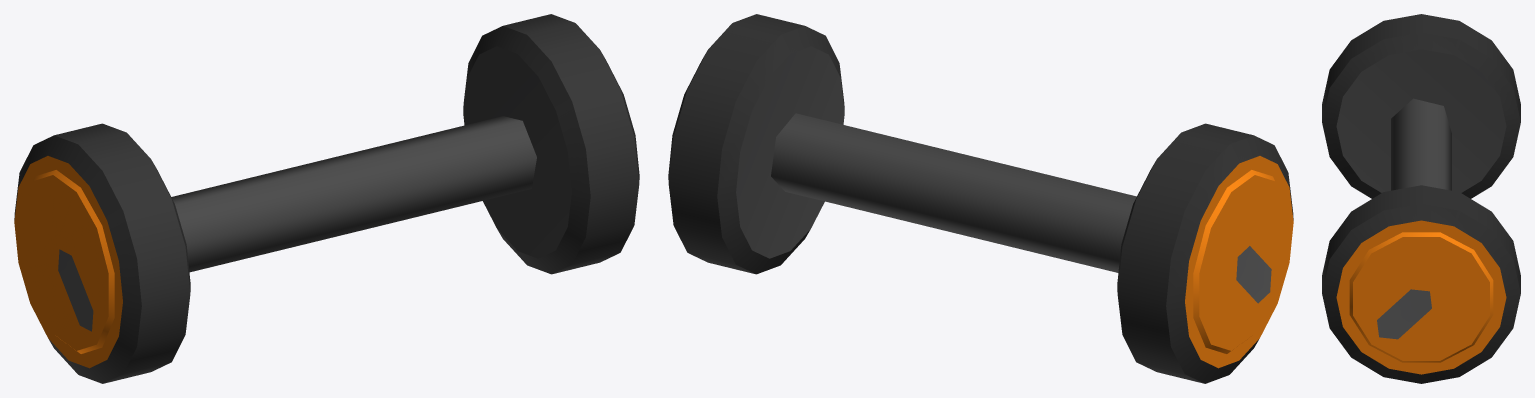
File: Delivery_drone_009_wheels_002.fbx
3 views of the same model, side by side, from view 1: azimuth 30°, elevation 25°; view 2: azimuth 150°, elevation 25°; view 3: azimuth 270°, elevation 25° (orthographic). The views are drawn at different scales.
Visible parts, largest first — view 1: Delivery_drone_009_wheels_002; view 2: Delivery_drone_009_wheels_002; view 3: Delivery_drone_009_wheels_002.
Part boxes in pixels (x1=…): Delivery_drone_009_wheels_002: x1=14, y1=14, x2=639, y2=383; Delivery_drone_009_wheels_002: x1=668, y1=14, x2=1293, y2=383; Delivery_drone_009_wheels_002: x1=1322, y1=14, x2=1520, y2=383.
Bounding box in the file's own units: 81.66 × 34.32 × 34.32.
